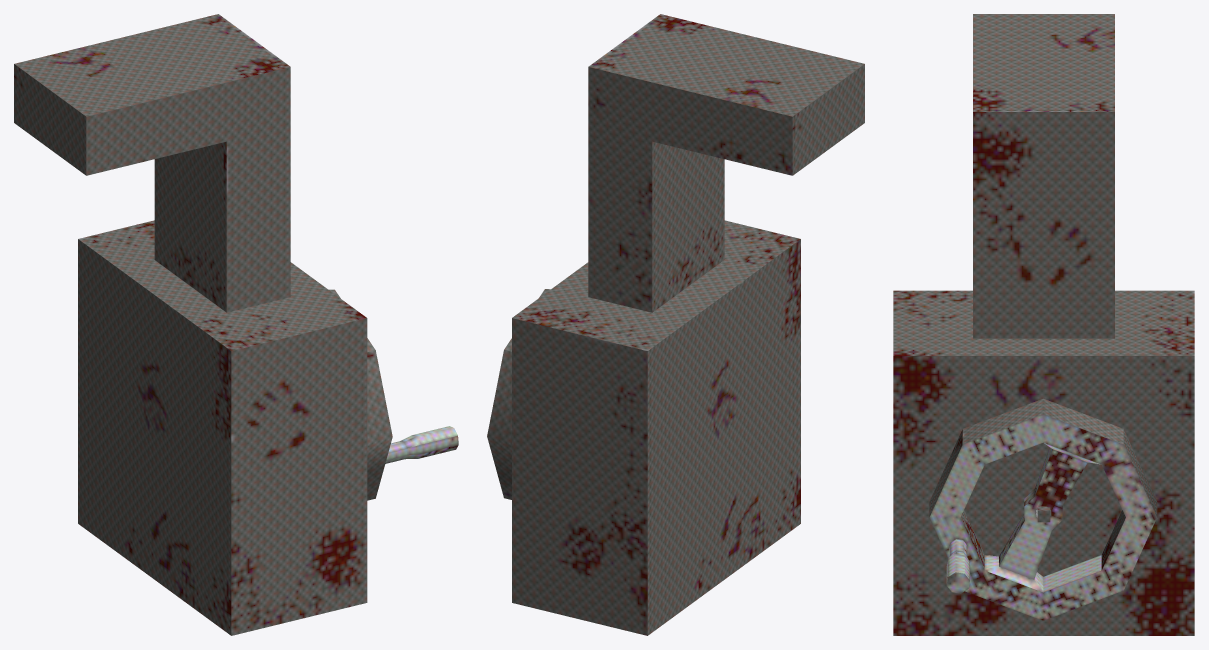
File: Manibela.fbx
The picture shows the model from 3 angles, left to right: view 1: azimuth 30°, elevation 25°; view 2: azimuth 150°, elevation 25°; view 3: azimuth 270°, elevation 25°; orthographic projection.
Parts seen in each view (by area): view 1: pCube15; view 2: pCube15; view 3: pCube15.
Part boxes in pixels (bbox=[...]): pCube15: bbox=[14, 14, 458, 635]; pCube15: bbox=[487, 14, 864, 635]; pCube15: bbox=[893, 14, 1194, 635].
Bounding box in the file's own units: 134 × 184 × 99.34.
